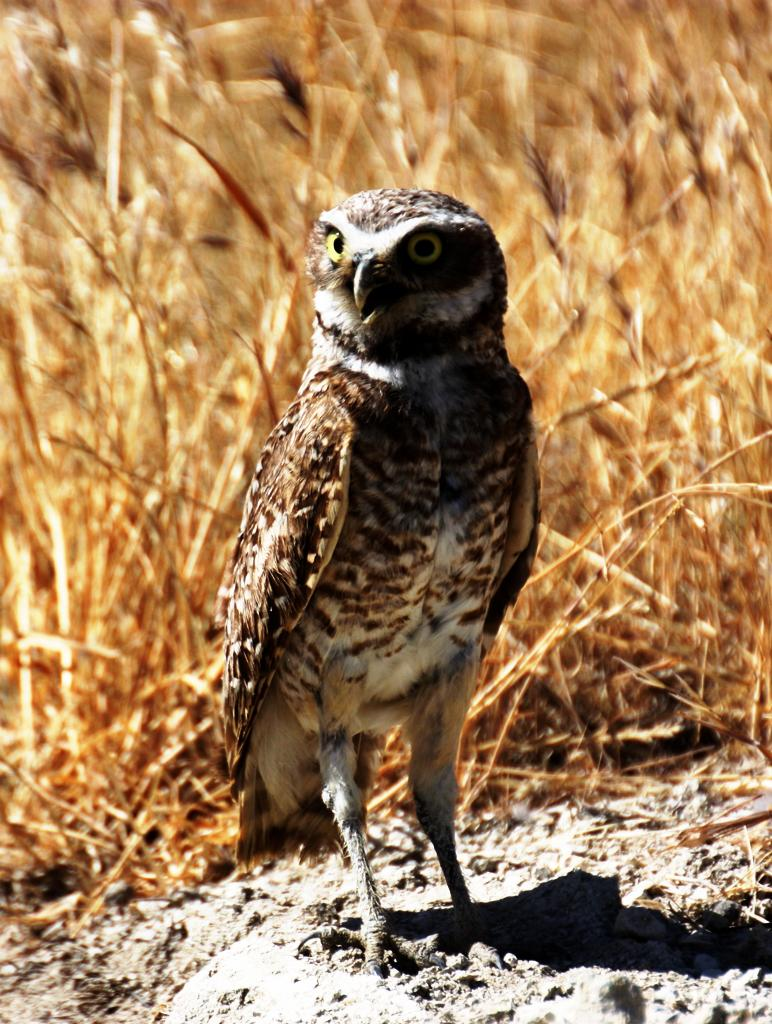Owl: (211, 188, 542, 980)
